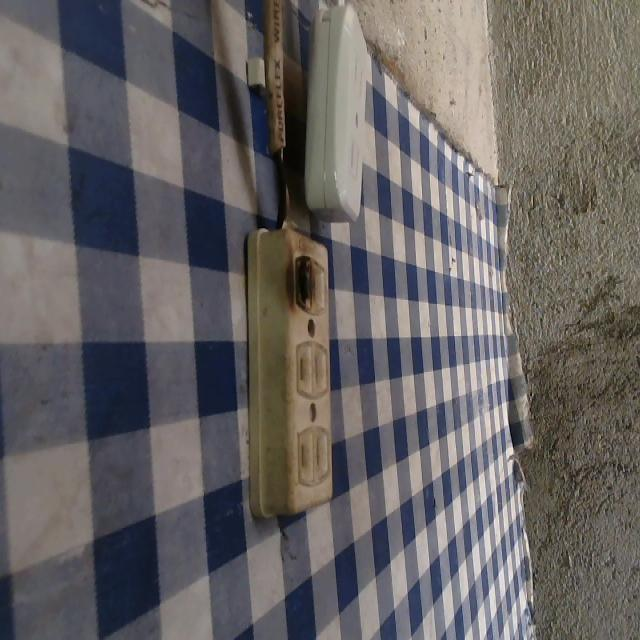-: (286, 252, 318, 316)
